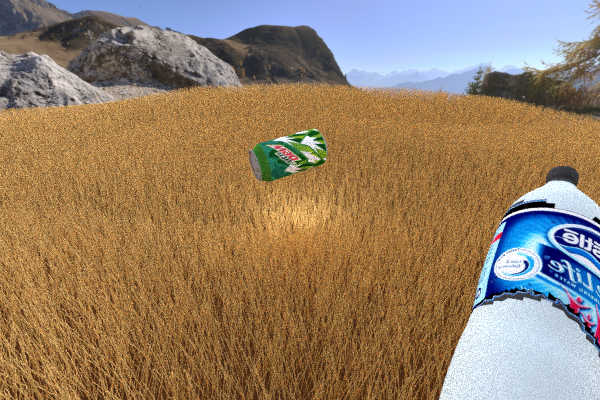Plastic Bottle: (435, 165, 600, 400), (248, 128, 327, 181), (325, 109, 363, 136)
